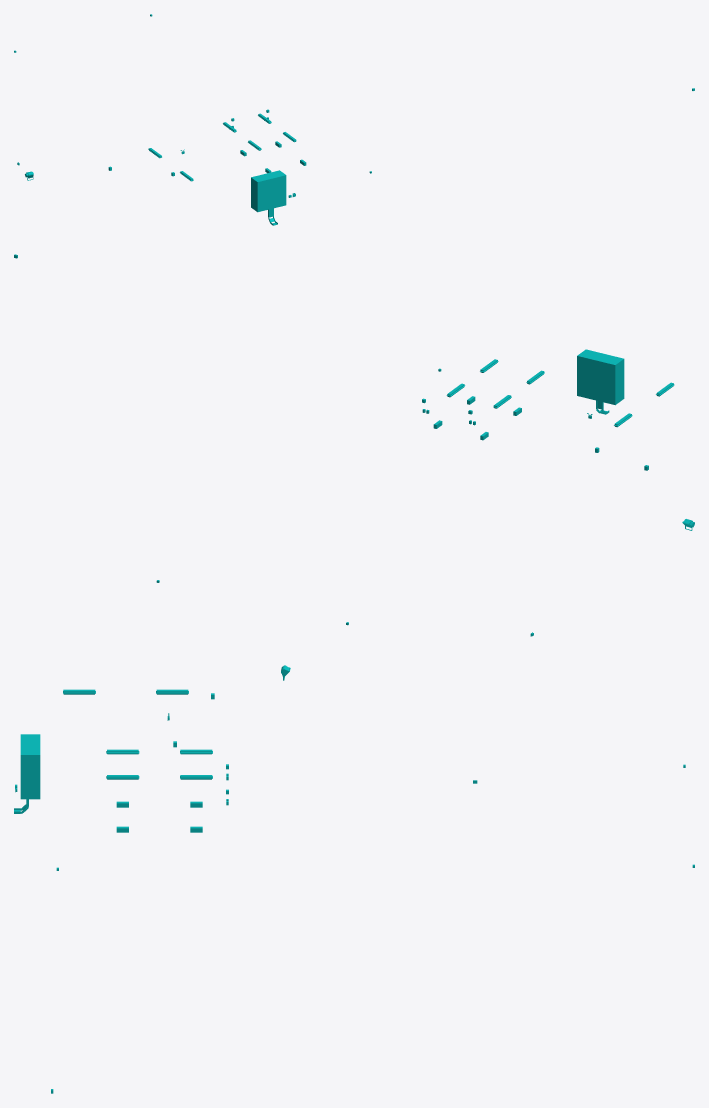
Rendered from HULDRA-HC-ELEC.gltf.
3 renders of one model, top to bottom at view 1: azimuth 30°, elevation 25°; view 2: azimuth 150°, elevation 25°; view 3: azimuth 270°, elevation 25°, orthographic. The views are drawn at different scales.
Parts seen in each view (by area): view 1: /UTIL-STAT/HC/003/1/1_Mesh.30463; view 2: /UTIL-STAT/HC/003/1/1_Mesh.30463; view 3: /UTIL-STAT/HC/003/1/1_Mesh.30463.
Part boxes in pixels (x1,y1,x2,y2): /UTIL-STAT/HC/003/1/1_Mesh.30463: [251, 170, 286, 212]; /UTIL-STAT/HC/003/1/1_Mesh.30463: [577, 349, 624, 405]; /UTIL-STAT/HC/003/1/1_Mesh.30463: [20, 734, 40, 799].
Bounding box in the file's own units: 40.98 × 5.29 × 27.79.
